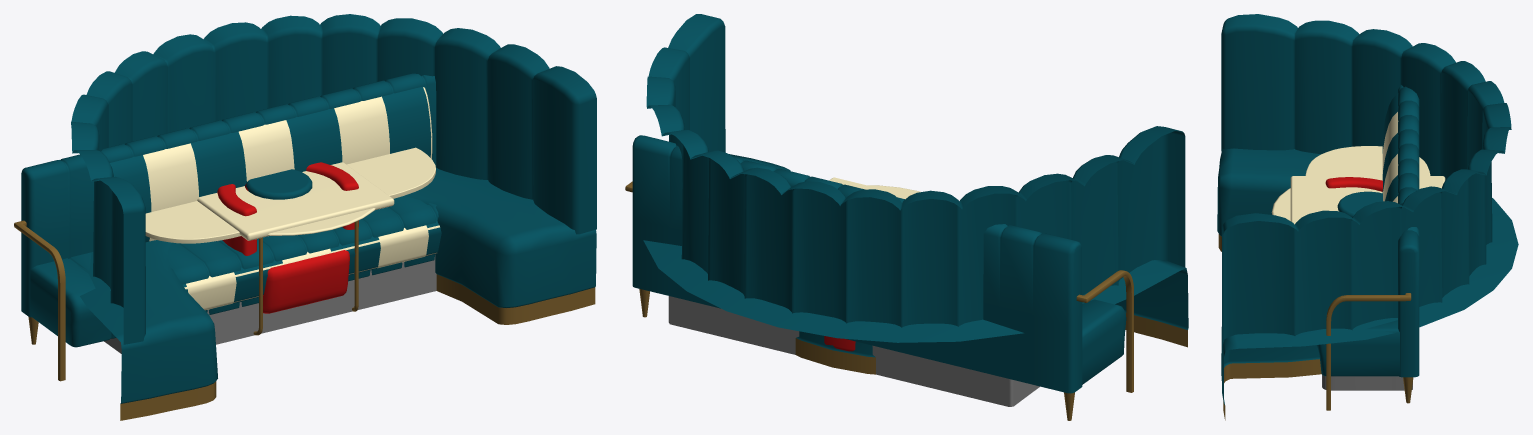
Rendered from PropsBundleNewRestaurant.fbx.
The picture shows the model from 3 angles, left to right: view 1: azimuth 30°, elevation 25°; view 2: azimuth 150°, elevation 25°; view 3: azimuth 270°, elevation 25°; orthographic projection. The views are drawn at different scales.
Visible parts, largest first — view 1: RoundSofa_Restaurant, DinerSofa, Restaurant_LongSofa, LoungeArmchair(Red), RestaurantSquareTable, RoundedLongTable, BarStool(Blue), RestaurantRoundTable; view 2: RoundSofa_Restaurant, Restaurant_LongSofa, DinerSofa; view 3: RoundSofa_Restaurant, Restaurant_LongSofa, DinerSofa, RestaurantSquareTable, RoundedLongTable, BarStool(Blue), LoungeArmchair(Red), RestaurantRoundTable.
Part boxes in pixels (x1,y1,x2,y2): RoundSofa_Restaurant: (71, 14, 596, 420); DinerSofa: (104, 86, 441, 353); Restaurant_LongSofa: (14, 73, 438, 381); LoungeArmchair(Red): (217, 162, 358, 335); RestaurantSquareTable: (197, 162, 394, 240); RoundedLongTable: (145, 147, 435, 243); BarStool(Blue): (246, 169, 312, 199); RestaurantRoundTable: (267, 208, 375, 235); RoundSofa_Restaurant: (643, 14, 1188, 374); Restaurant_LongSofa: (625, 135, 1133, 420); DinerSofa: (668, 296, 1039, 406); RoundSofa_Restaurant: (1217, 14, 1518, 420); Restaurant_LongSofa: (1318, 85, 1419, 410); DinerSofa: (1317, 93, 1412, 390); RestaurantSquareTable: (1290, 176, 1445, 224); RoundedLongTable: (1305, 146, 1430, 175); BarStool(Blue): (1337, 191, 1382, 217); LoungeArmchair(Red): (1325, 177, 1382, 191); RestaurantRoundTable: (1271, 188, 1290, 220).
Size of the model in its own units: 5.29 by 2.32 by 3.16.
